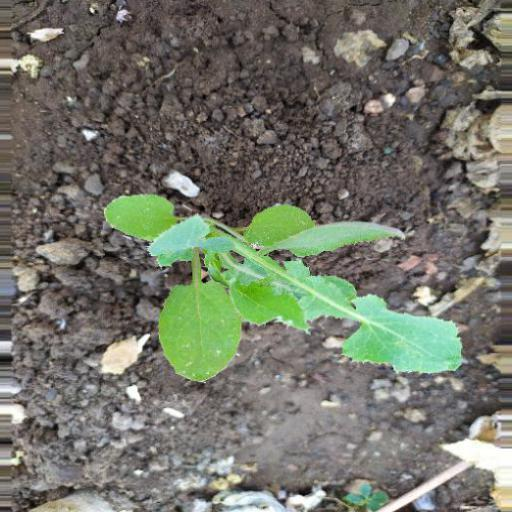weed: (78, 152, 470, 416)
